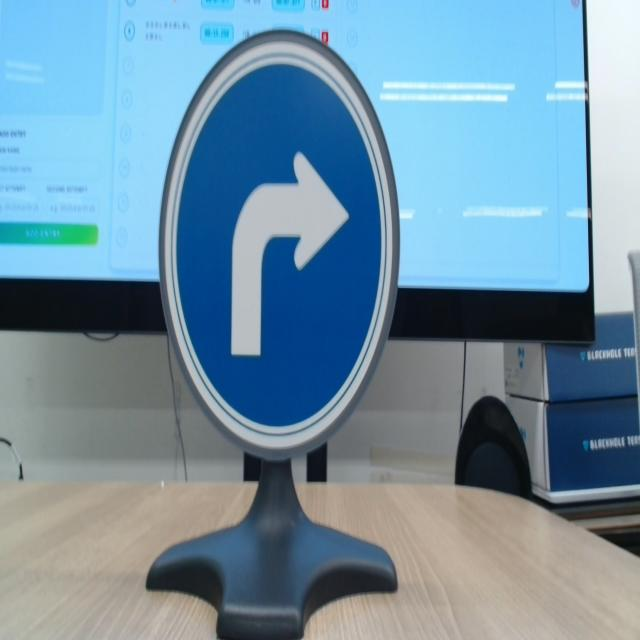right_dierection: (155, 15, 439, 461)
